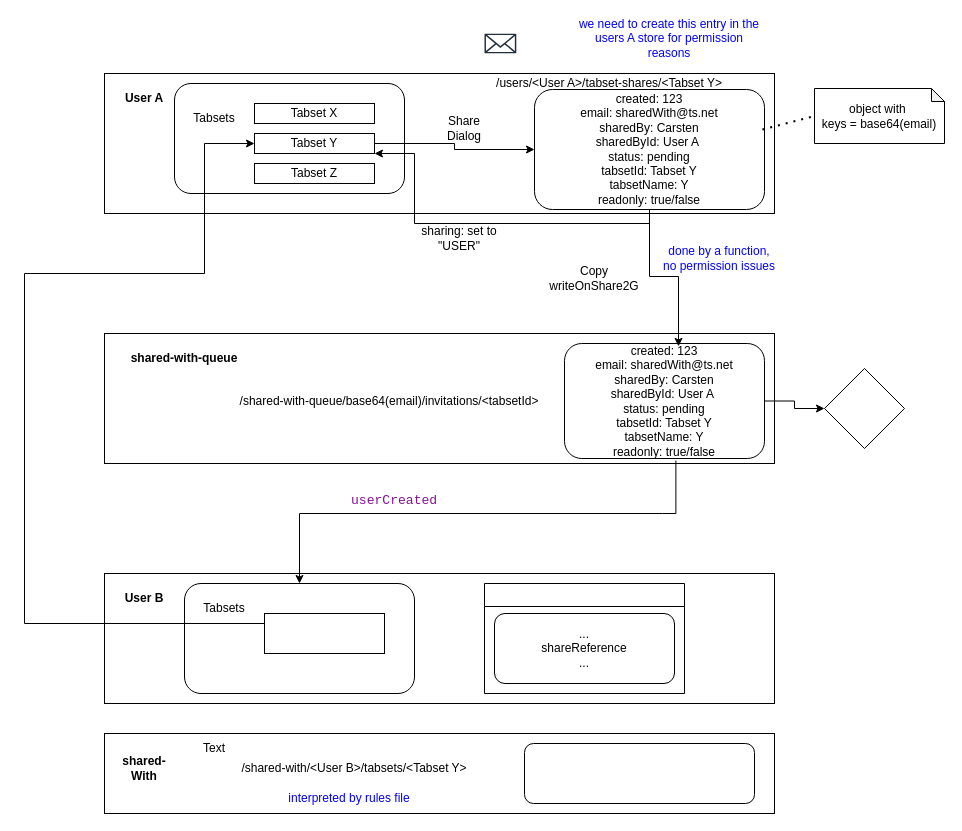
Image size: 962x831. Some labels were removed from this diagram. The box of each missing label's shape, as (x1, y1, x2, y2) in pixels:
access: write sharedById: User A: (524, 742, 754, 804)
loaded tabset in app for User B: (484, 582, 684, 694)
REF to Tabset Y access: write: (264, 612, 384, 654)
User B exists already: (824, 368, 904, 448)
